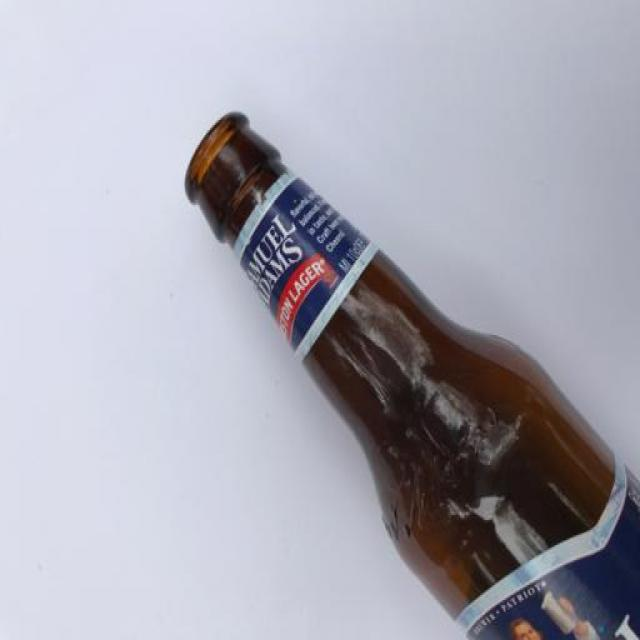glass: (152, 91, 640, 640)
